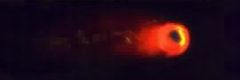keyhole: (167, 28, 182, 45)
